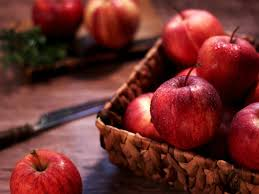apple: (153, 78, 225, 143), (161, 8, 225, 59), (197, 35, 257, 88), (12, 152, 83, 194), (127, 91, 181, 141), (230, 107, 259, 165)
